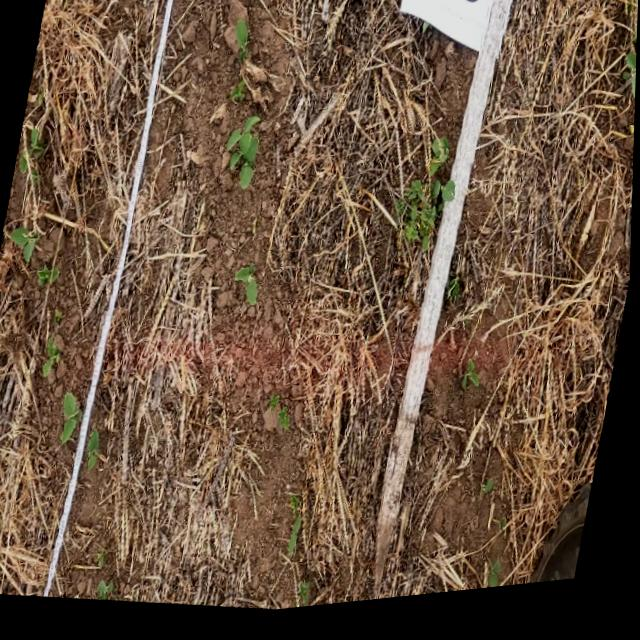caruru_weed: (397, 189, 456, 259), (430, 147, 450, 186)
soy_plant: (228, 122, 261, 194), (11, 227, 41, 264), (21, 129, 45, 174), (64, 394, 85, 444), (237, 269, 260, 312), (291, 502, 306, 562), (44, 337, 64, 378), (235, 23, 250, 67), (464, 368, 483, 399), (291, 523, 305, 561), (39, 267, 60, 288), (231, 84, 250, 105), (491, 572, 505, 598), (302, 587, 315, 614), (100, 583, 118, 602), (449, 287, 463, 311), (280, 412, 292, 436), (247, 70, 266, 82), (483, 489, 496, 506), (271, 401, 283, 416), (93, 435, 99, 464), (55, 312, 64, 328)
